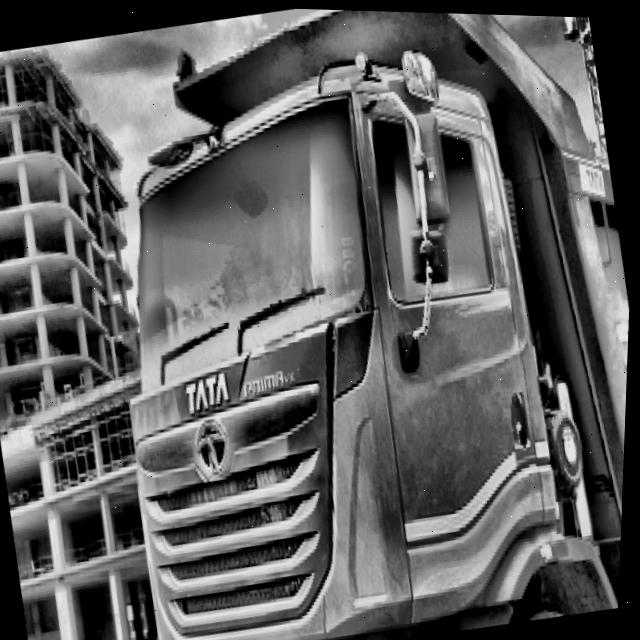dump_truck: (41, 1, 640, 640)
